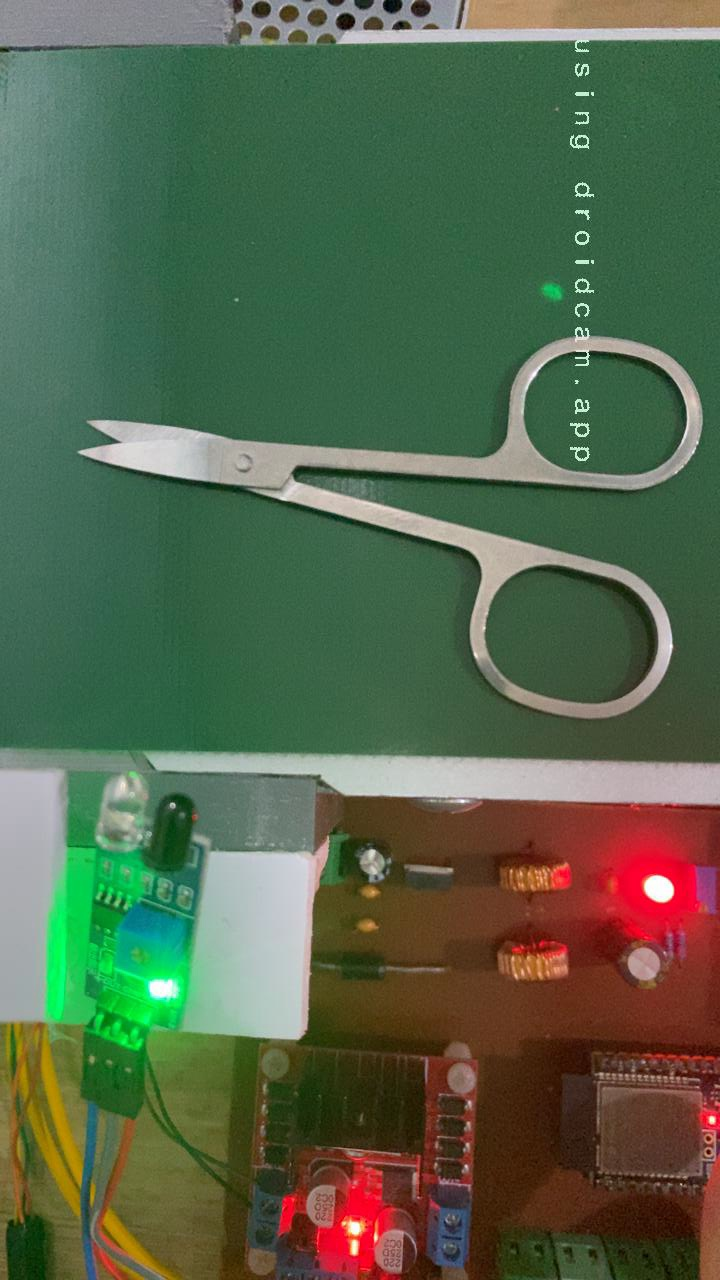scissor: (73, 328, 711, 729)
